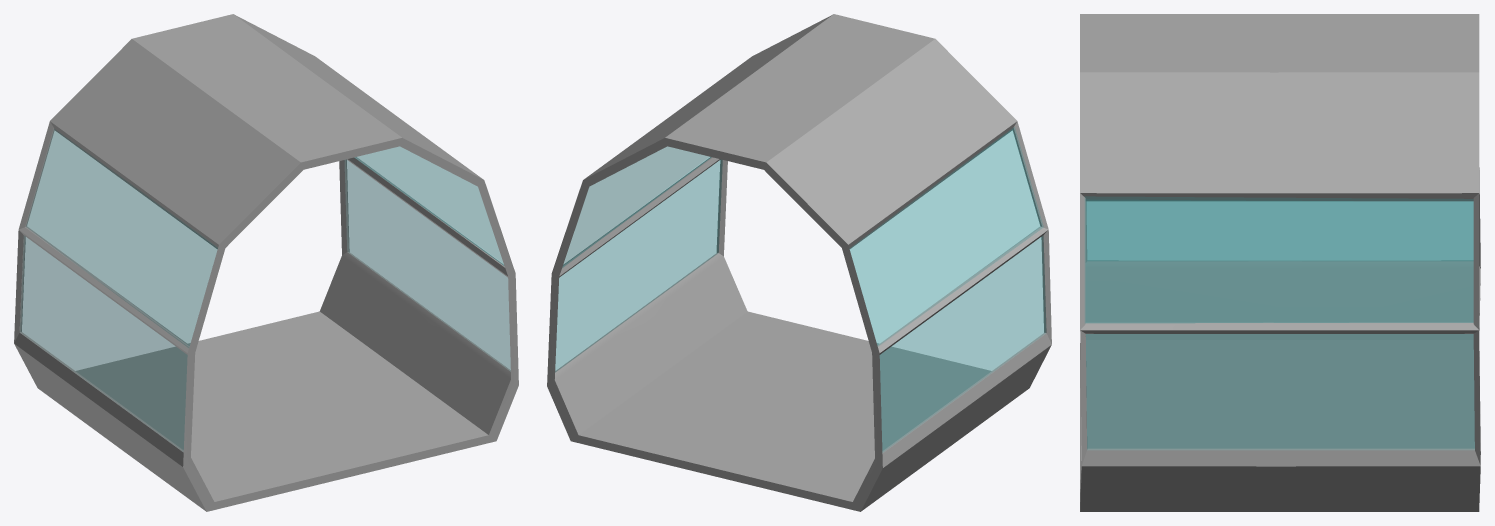
File: Tunnel_Window.fbx
3 renders of one model, left to right at view 1: azimuth 30°, elevation 25°; view 2: azimuth 150°, elevation 25°; view 3: azimuth 270°, elevation 25°, orthographic. The views are drawn at different scales.
Parts seen in each view (by area): view 1: Tunnel_Window_Section, Tunnel_Windows; view 2: Tunnel_Window_Section, Tunnel_Windows; view 3: Tunnel_Window_Section, Tunnel_Windows.
Part boxes in pixels (x1,y1,x2,y2): Tunnel_Window_Section: [14, 14, 518, 511]; Tunnel_Windows: [20, 129, 510, 451]; Tunnel_Window_Section: [547, 14, 1051, 511]; Tunnel_Windows: [555, 127, 1045, 452]; Tunnel_Window_Section: [1080, 14, 1480, 511]; Tunnel_Windows: [1085, 196, 1474, 449].
Bounding box in the file's own units: 573 × 533 × 502.
